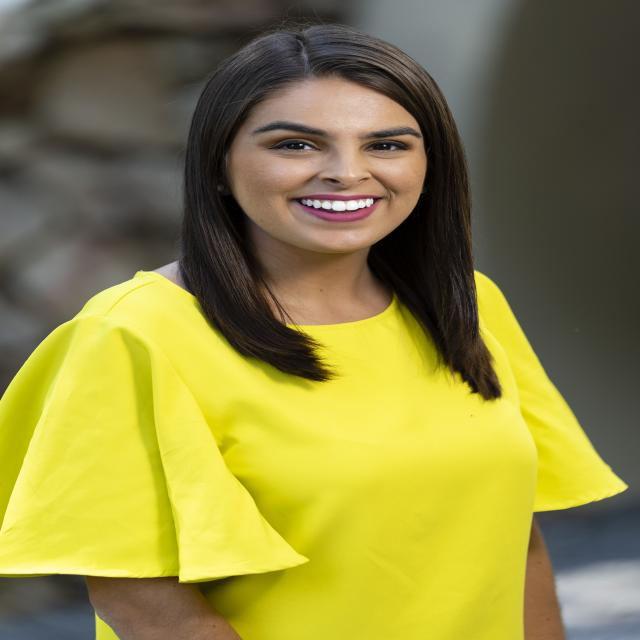mobile_phonerotation: (2, 21, 628, 638)
